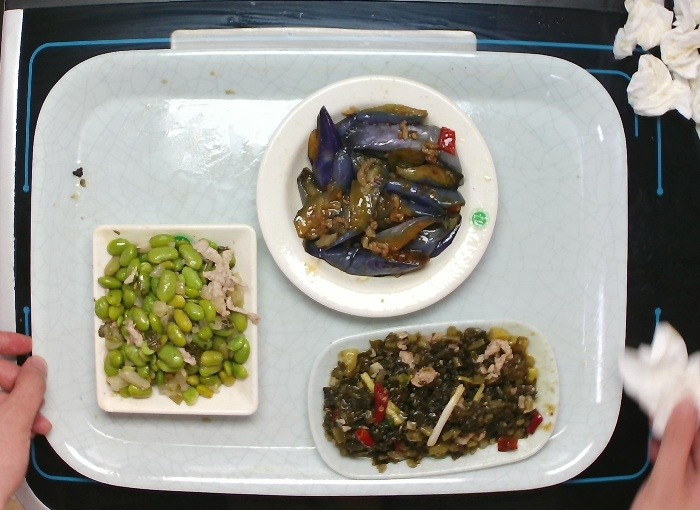WCQzf-Bai_Se_Si_Fang_Die: (89, 219, 265, 421)
WCQzf-Kuan_Bian_Yuan_Die: (253, 72, 501, 321)
WCQzf-Tuo_Yuan_Pan: (305, 318, 561, 480)
